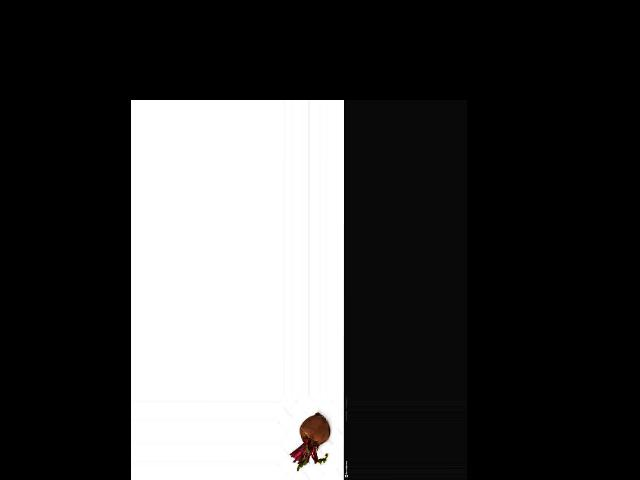beet: (289, 412, 330, 470)
